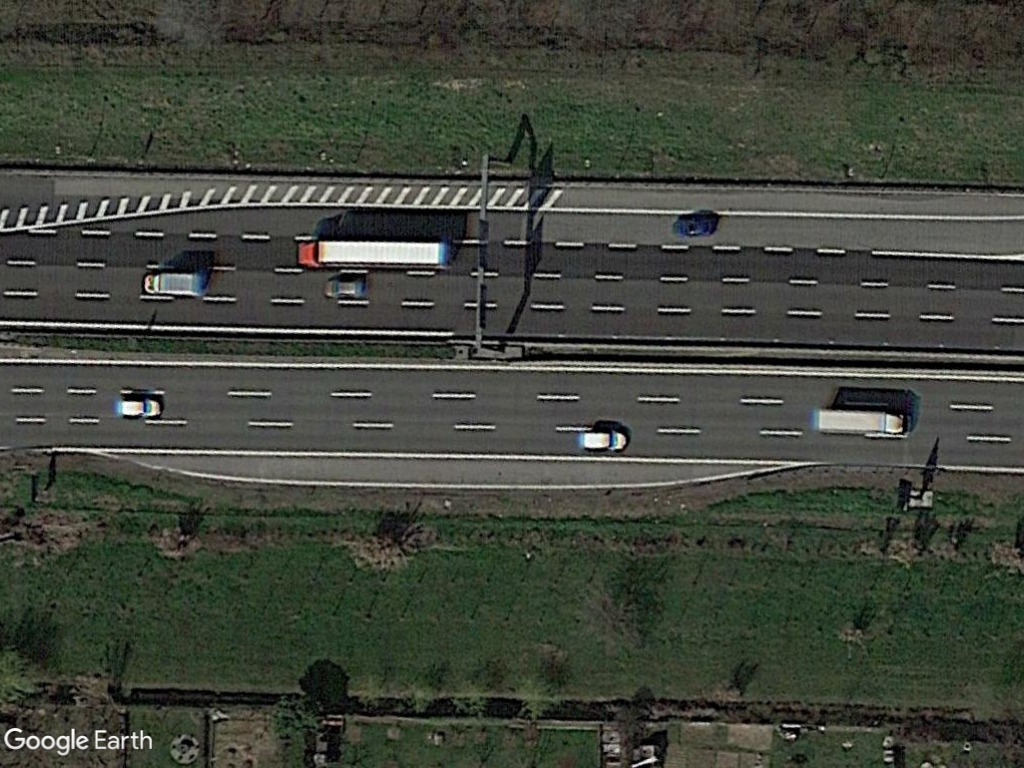car: (577, 427, 632, 455), (319, 275, 372, 299), (114, 396, 165, 419)
longvehicle: (291, 236, 455, 269)
truck: (809, 404, 918, 440)
van: (139, 270, 208, 298)
